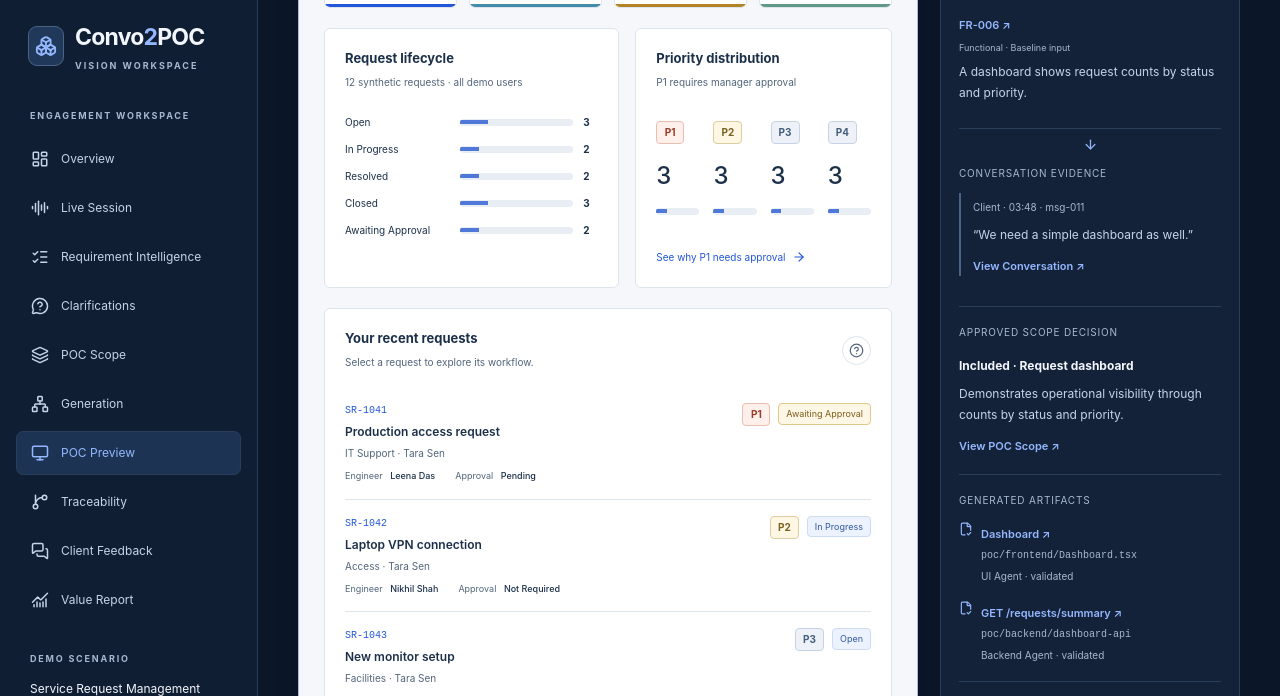
Test: generated POC review workspace › shows dedicated canonical PASS evidence for Why this feature? View Requests
The width and height of the screenshot is (1280, 696).
(page scrolled)
Click the button named "Why this feature? View Requests" at (856, 350), box [842,336,871,365]
(page scrolled)
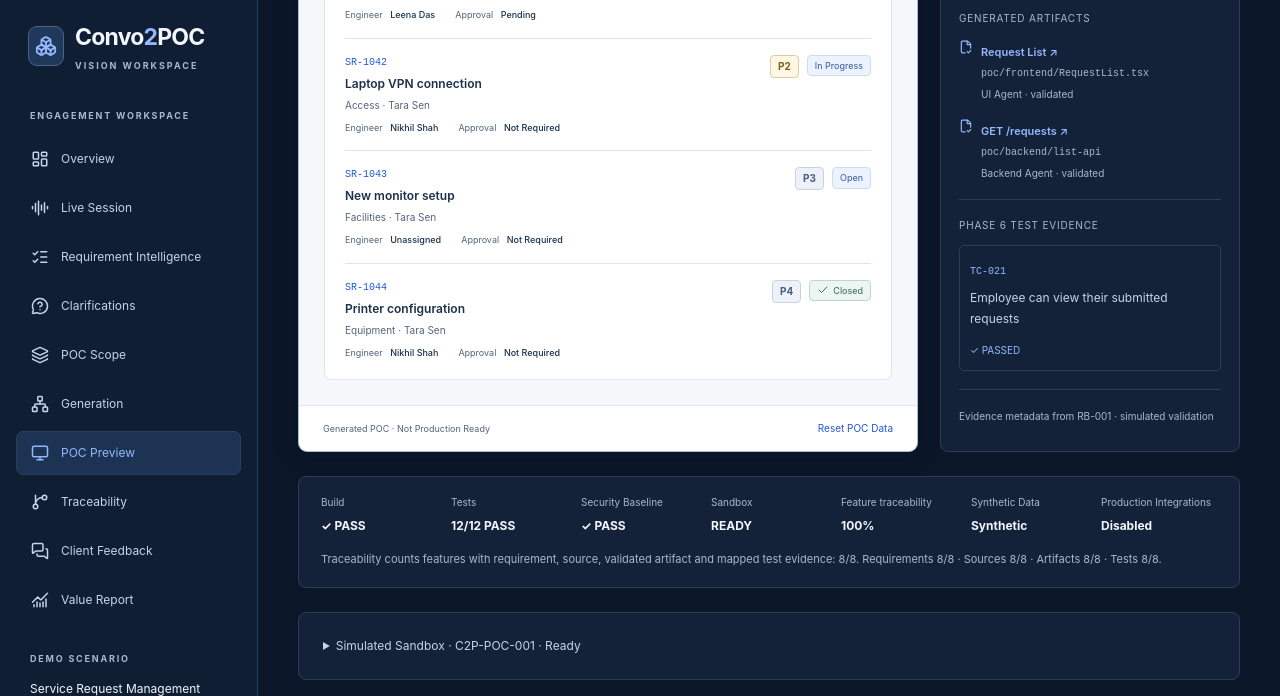
Check: the text "✓ PASSED" is shown, box [970,345,1020,357]
Check: the text "TC-021" is shown, box [970,267,1006,278]
